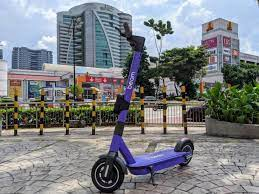scooter: (92, 20, 195, 194)
